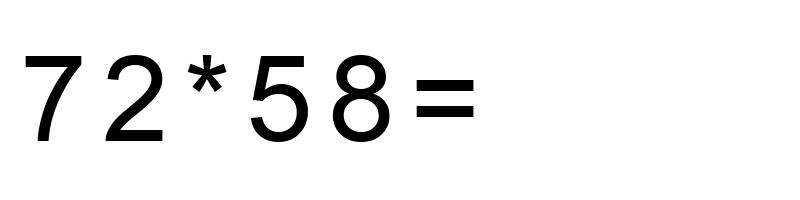*: (184, 32, 231, 167)
2: (102, 32, 169, 167)
5: (246, 32, 313, 167)
7: (20, 32, 87, 167)
8: (328, 32, 395, 167)
=: (410, 32, 480, 167)
